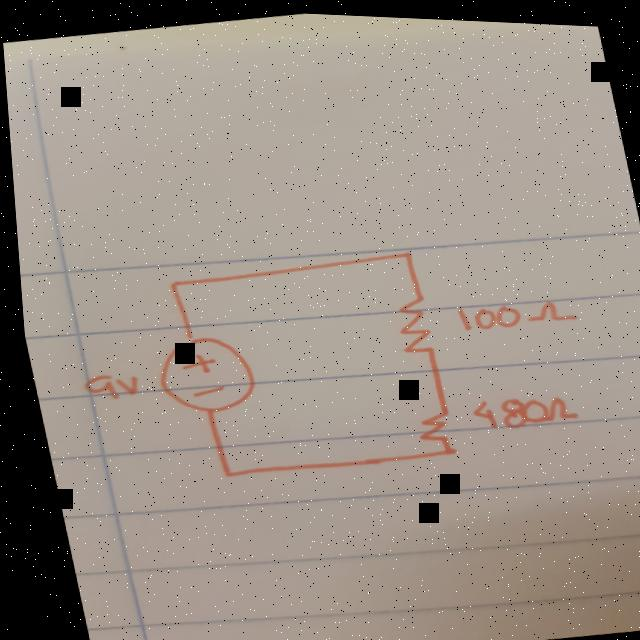junction: (159, 274, 180, 291), (209, 462, 229, 479), (392, 243, 413, 259), (431, 440, 453, 453)
resistor: (384, 286, 435, 359), (406, 404, 453, 439)
source: (141, 326, 260, 420)
text: (447, 282, 578, 333), (462, 379, 577, 432), (73, 367, 139, 404)
